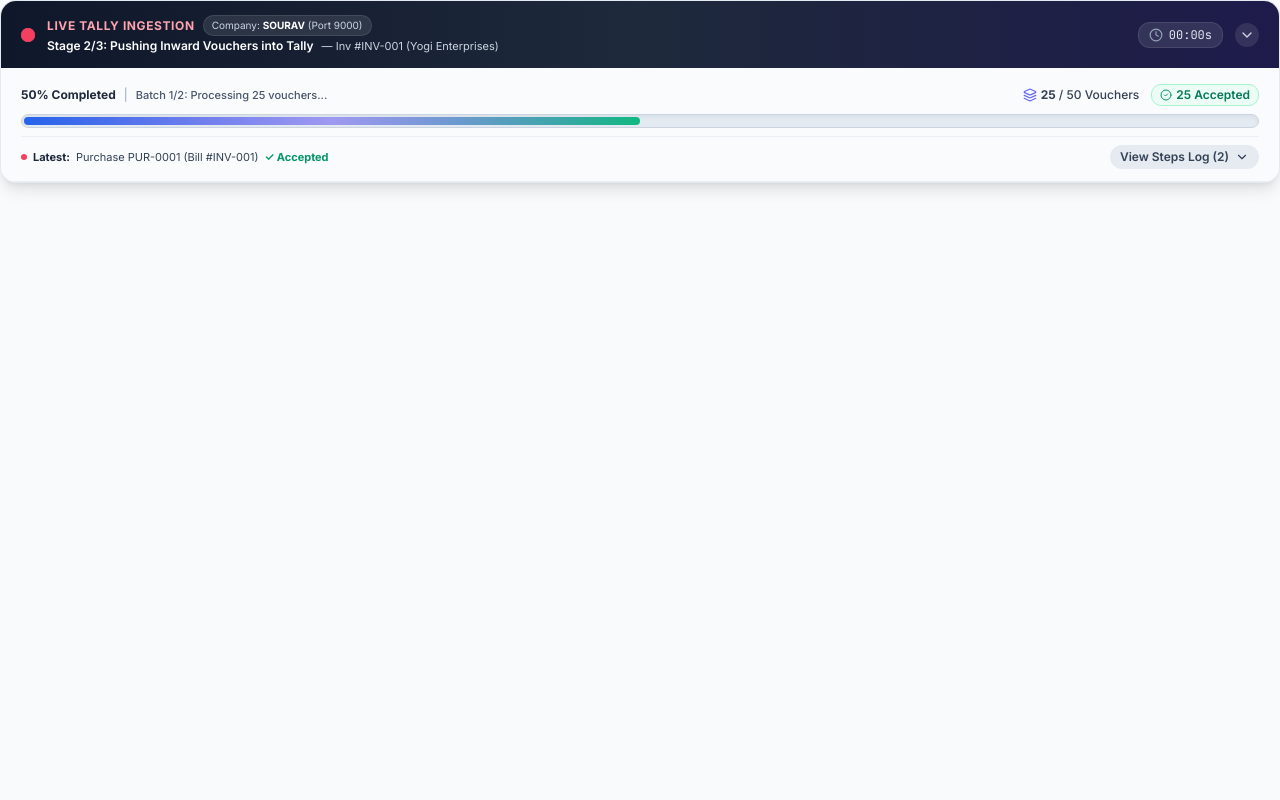
TallyLivePushMonitor › renders collapsed progress bar by default and expands on click
expect the text "50% Completed" is shown: met, box 21,87 -> 116,103
expect the text "SOURAV" is shown: met, box 263,19 -> 305,31
Note: Click to expand
What coordinates should you click on to do the following:
click the button "View Steps Log (2)"
I would click on:
 (1184, 157)
Its box is 1110,145 -> 1259,169.
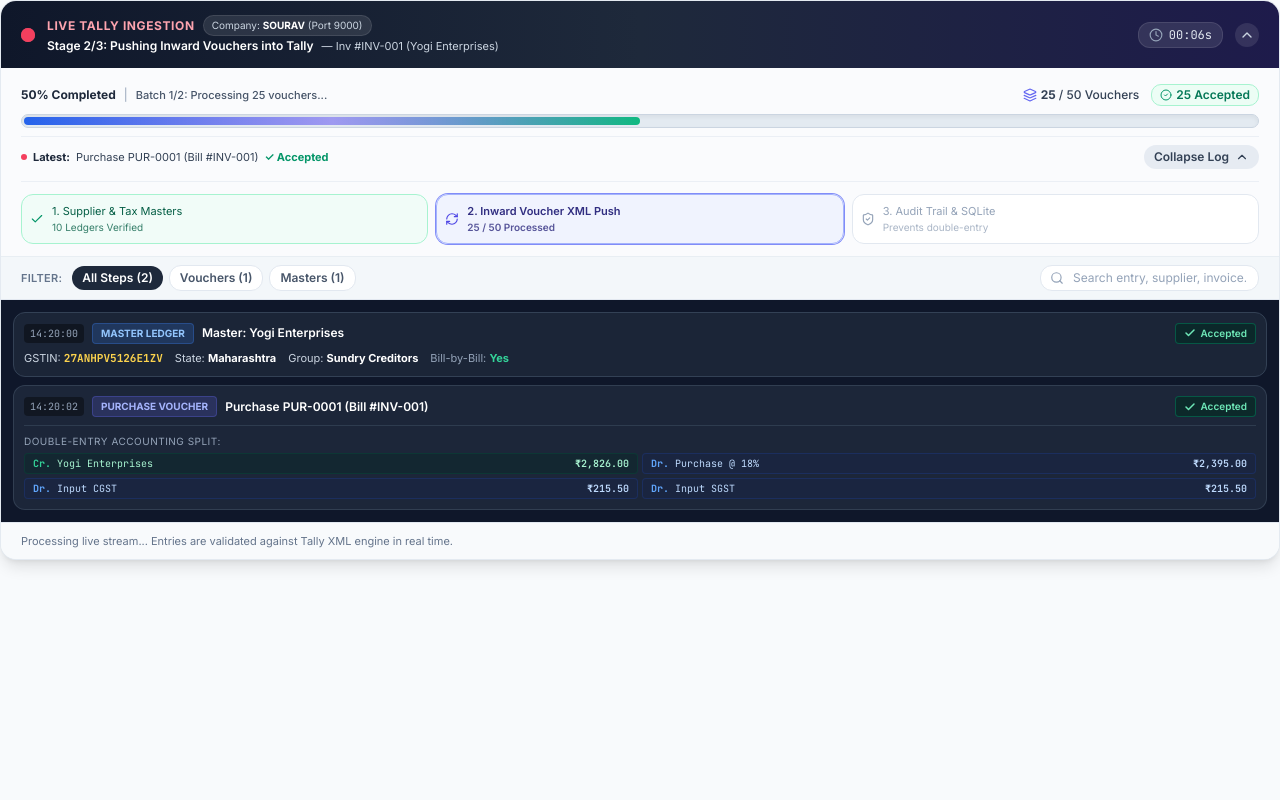
expect the text "Collapse Log" is shown: met, box 1154,149 -> 1229,165
expect the text "1. Supplier & Tax Masters" is shown: met, box 52,203 -> 182,220
expect the text "2. Inward Voucher XML Push" is shown: met, box 467,203 -> 620,220
